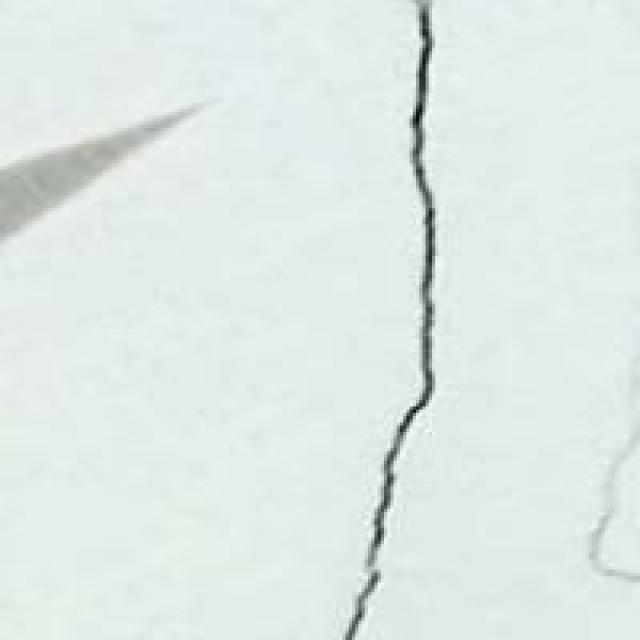Crack: (316, 0, 522, 637)
